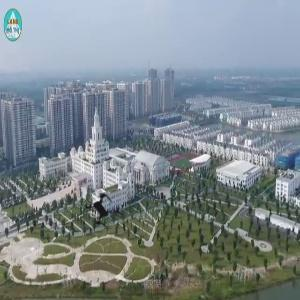drone: (64, 174, 141, 251)
